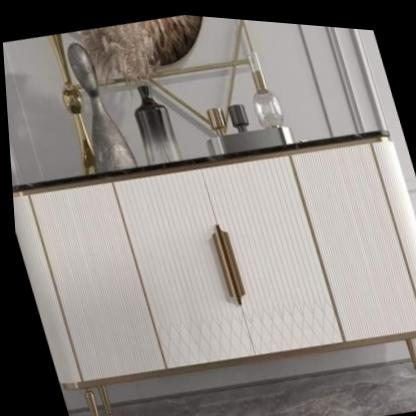Sideboard: (10, 125, 416, 416)
